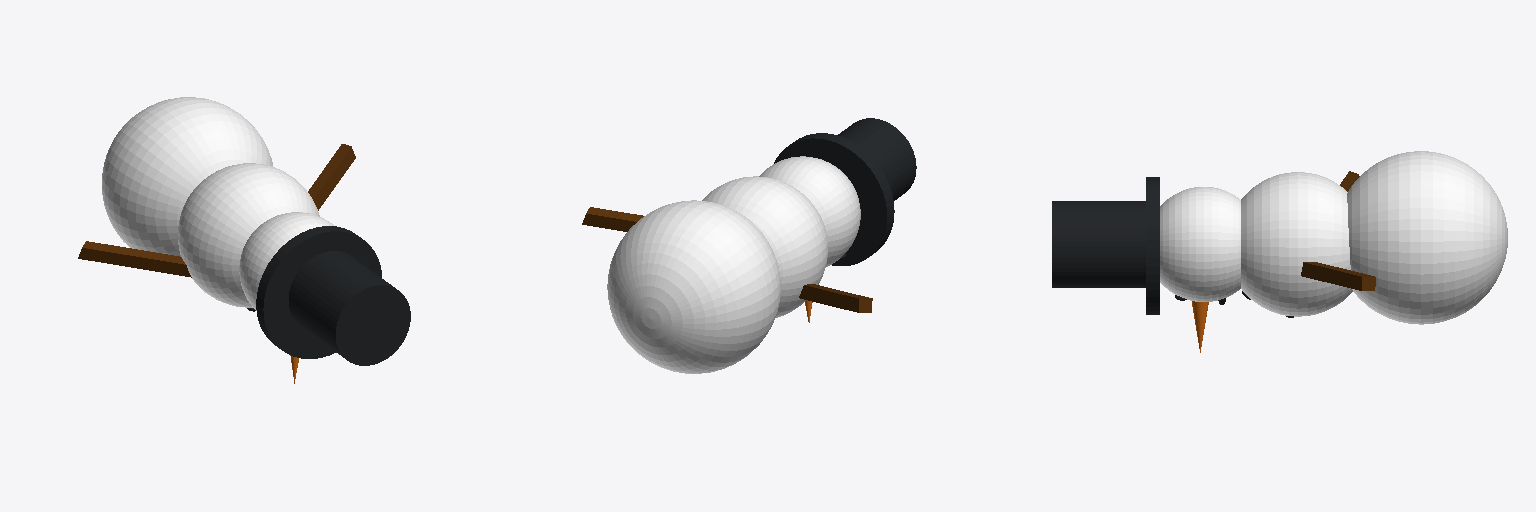
File: 3d sowman.obj
3 views of the same model, side by side, from view 1: azimuth 30°, elevation 25°; view 2: azimuth 150°, elevation 25°; view 3: azimuth 270°, elevation 25° (orthographic).
Parts seen in each view (by area): view 1: obj_1, obj_0, obj_7, obj_6, obj_2, obj_13, obj_12; view 2: obj_1, obj_0, obj_6, obj_2, obj_7, obj_13, obj_12; view 3: obj_1, obj_0, obj_2, obj_7, obj_6, obj_12.
Part boxes in pixels (x1,y1,x2,y2): obj_1: (102,97,272,256); obj_0: (178,163,319,307); obj_7: (289,251,410,365); obj_6: (256,226,381,358); obj_2: (239,212,333,310); obj_13: (78,241,191,277); obj_12: (308,144,355,210); obj_1: (607,200,780,373); obj_0: (702,176,827,317); obj_6: (774,133,894,265); obj_2: (759,156,860,266); obj_7: (837,118,916,200); obj_13: (799,284,872,312); obj_12: (582,207,643,231); obj_1: (1347,151,1507,324); obj_0: (1241,172,1352,316); obj_2: (1160,187,1240,301); obj_7: (1052,201,1145,287); obj_6: (1146,177,1159,314); obj_12: (1301,262,1375,290).
Bounding box in the file's own units: 45 × 30 × 63.